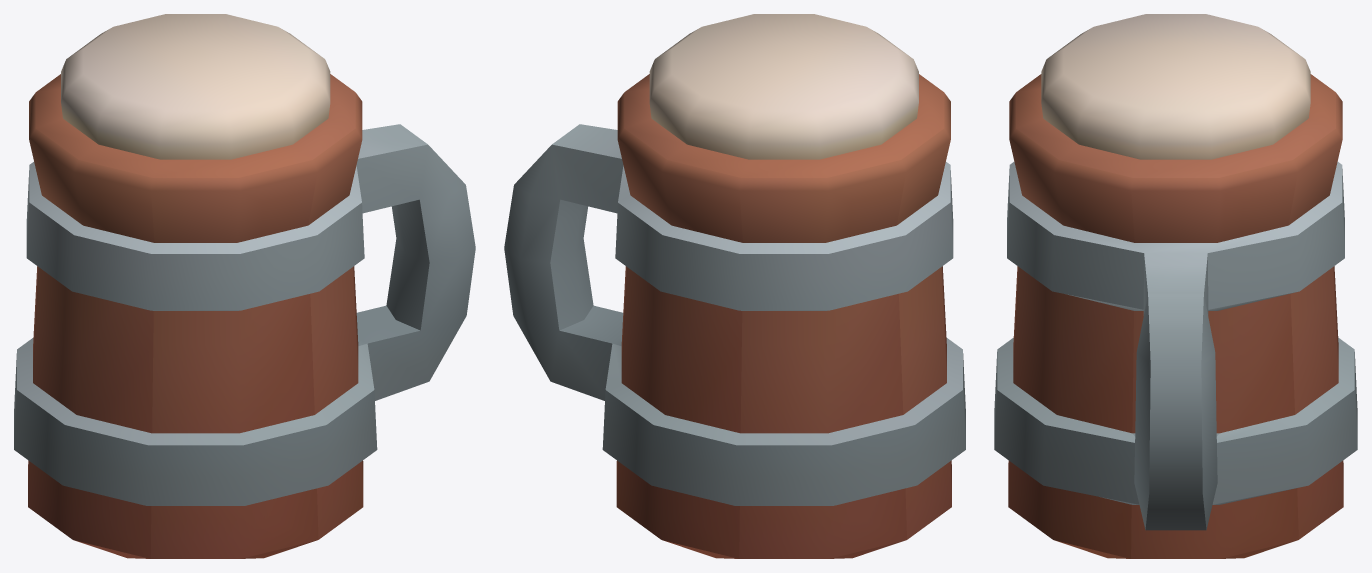
File: mug.glb
3 renders of one model, left to right at view 1: azimuth 30°, elevation 25°; view 2: azimuth 150°, elevation 25°; view 3: azimuth 270°, elevation 25°, orthographic.
Parts seen in each view (by area): view 1: mug_full; view 2: mug_full; view 3: mug_full.
Boxes of the visible parts, x1,y1,x2,y2 form: mug_full: [14, 14, 475, 558]; mug_full: [504, 14, 965, 558]; mug_full: [994, 14, 1357, 558].
Bounding box in the file's own units: 0.5342 × 0.5484 × 0.3959.
1 material, 1 textured.
